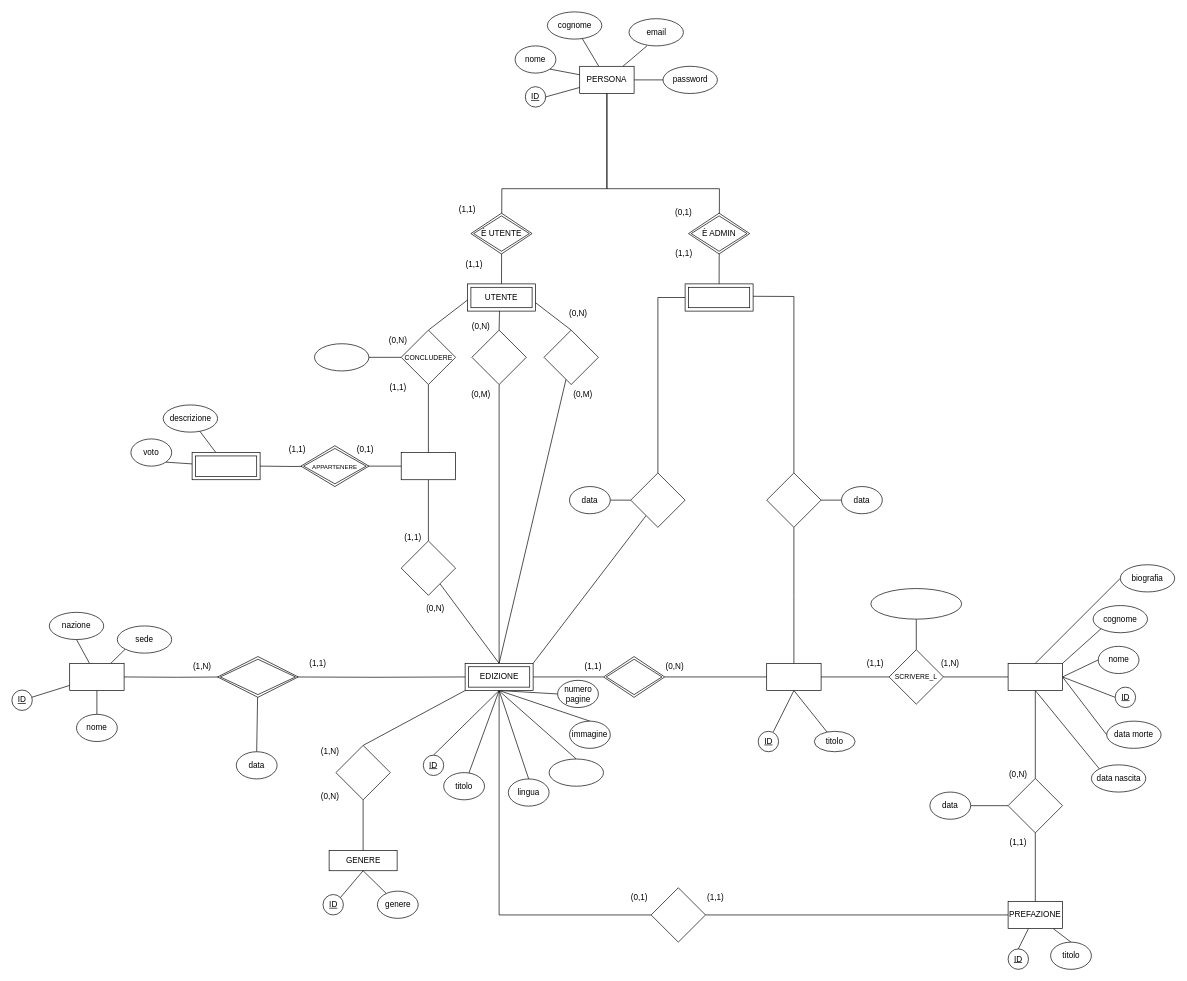
Some shapes in this 1187 by 981 pixel diagram are drawn without their labels. The centre of each missing label's shape, as x and y in pixels:
"ADMIN" belongs at point (718, 297).
"ANTICIPARE" belongs at point (678, 914).
"AUTORE" belongs at point (1034, 677).
"CLASSIFICARE" belongs at point (362, 772).
"data fine" belongs at point (341, 357).
"data prima edizione" belongs at point (916, 603).
"didascalia" belongs at point (576, 772).
"EDITORE" belongs at point (96, 677).
"LETTURA" belongs at point (428, 466).
"LIBRO" belongs at point (793, 677).
"PUBBLICARE" belongs at point (257, 676).
"Recensione" belongs at point (225, 466).
"REGISTRARE_E" belongs at point (657, 499).
"REGISTRARE_L" belongs at point (793, 499).
"RIFERIRE" belongs at point (428, 567).
"SCRIVERE_P" belongs at point (1034, 805).
"STA LEGGENDO" belongs at point (570, 357).
"STAMPARE" belongs at point (634, 676).
"VUOLE LEGGERE" belongs at point (498, 357).
